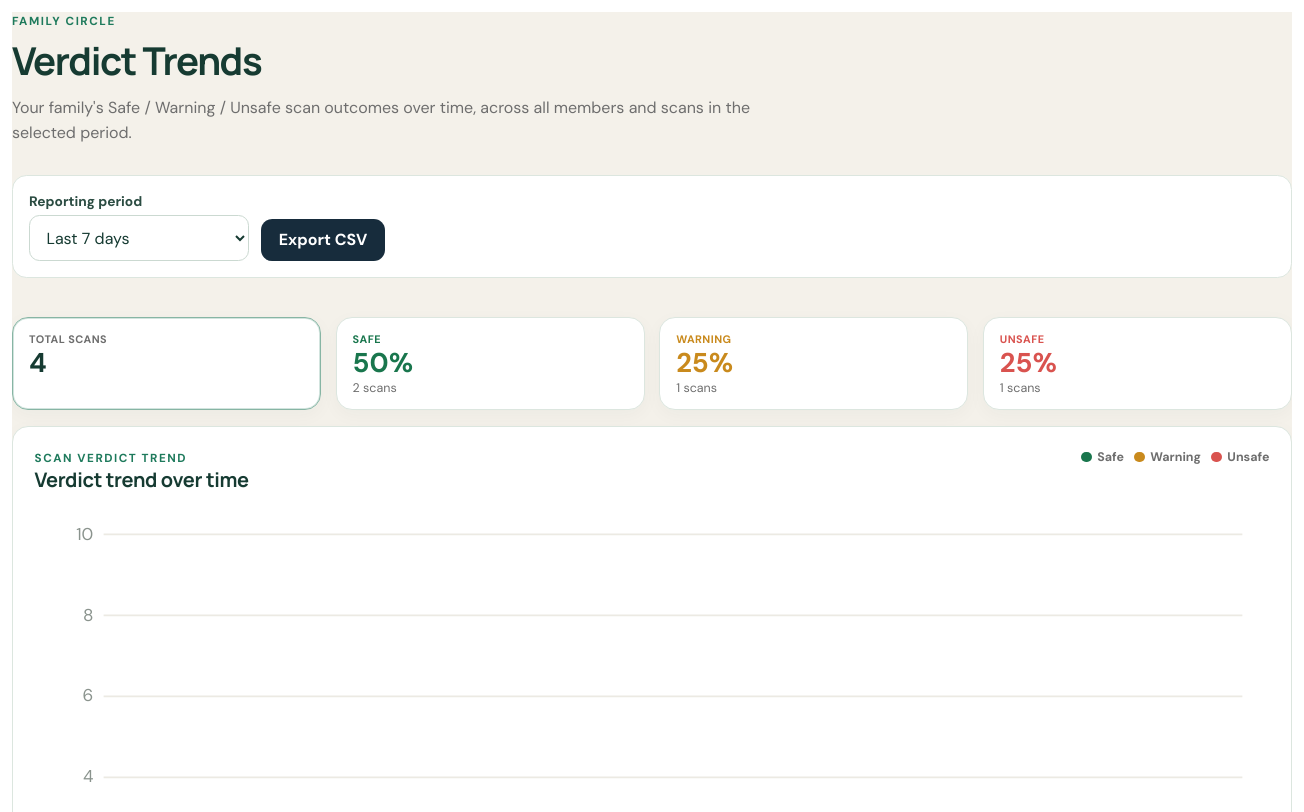
it: VerdictTrendsPage › filters the trend chart when a metric card is selected
The image size is (1304, 812).
Click the button "Unsafe 25% 1 scans".
click(1022, 339)  # box [983,317,1292,410]
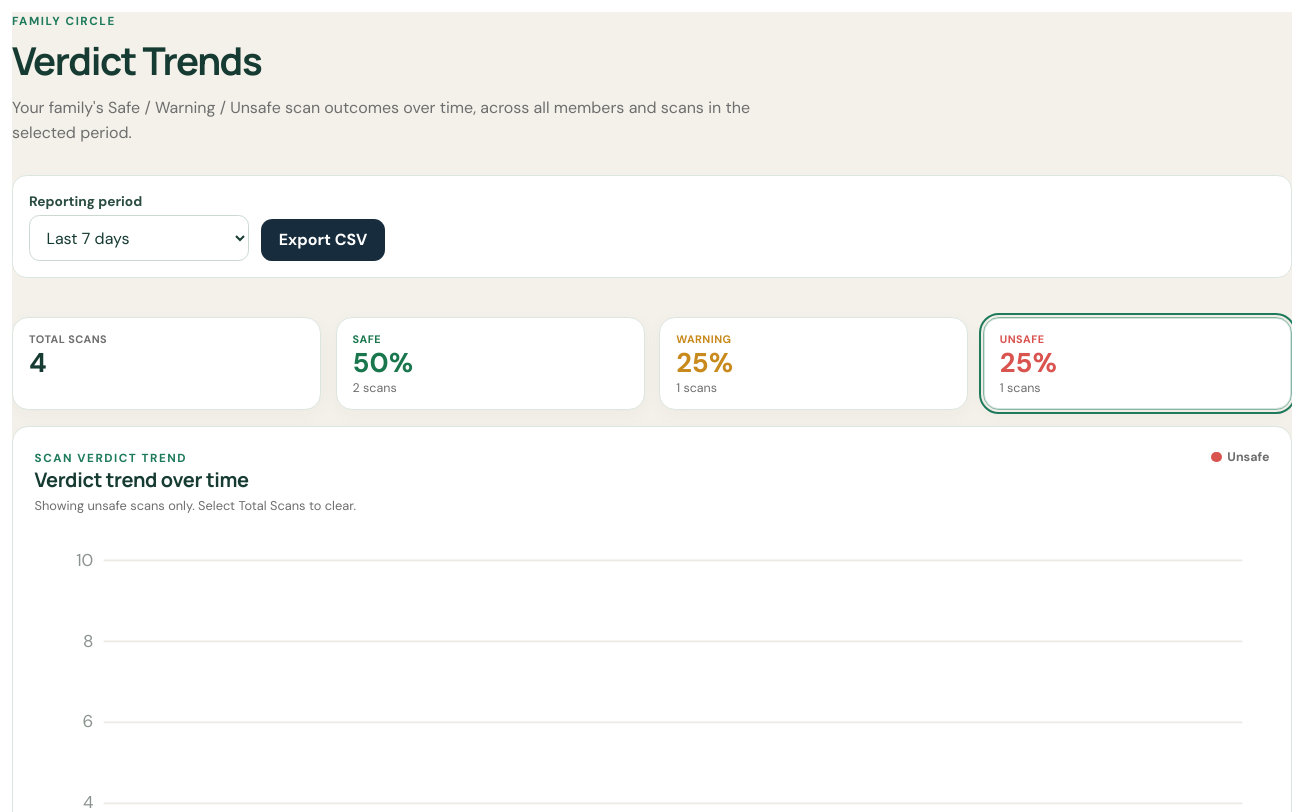
Result: the text "Showing unsafe scans only. Select Total Scans to clear." is shown at [35,496,356,517]
Click the button "Total Scans 4".
click(68, 339)  # box [12,317,321,410]
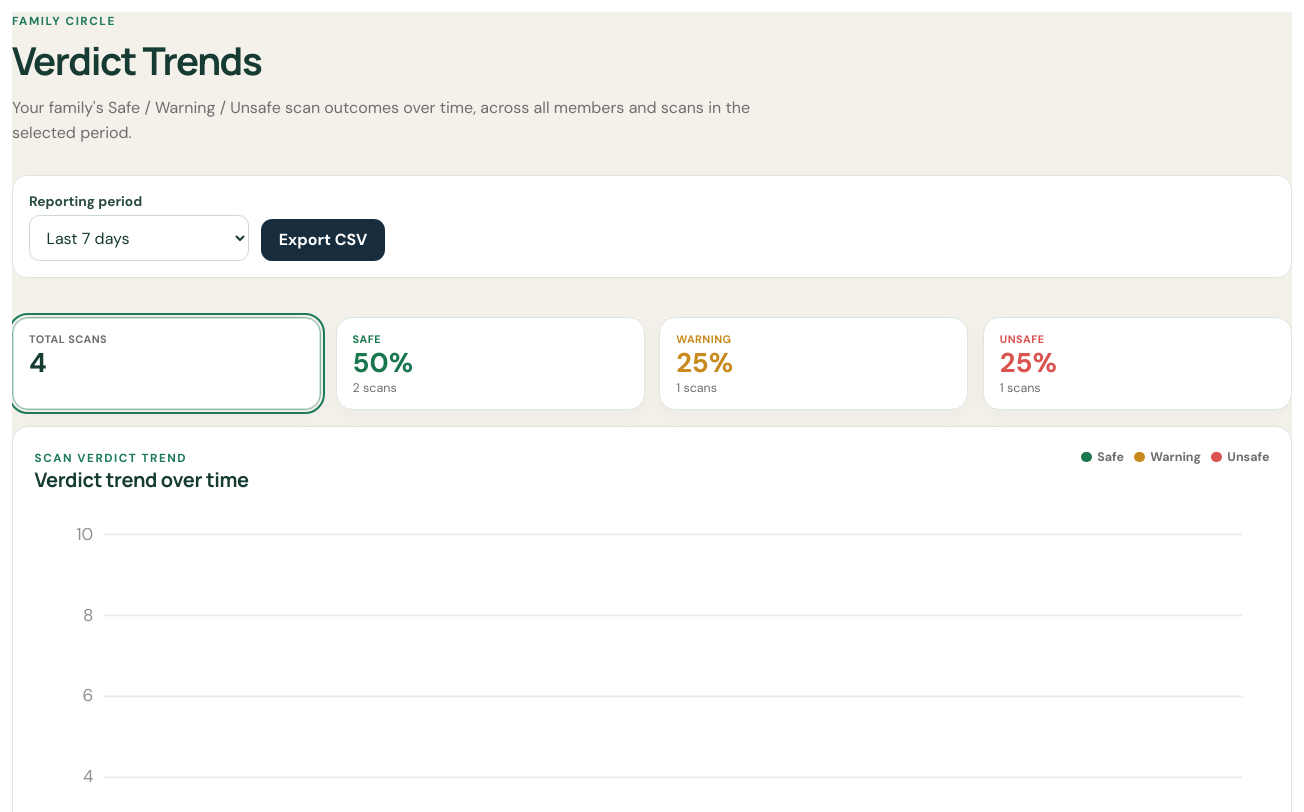
Result: the text "Showing unsafe scans only" is gone
